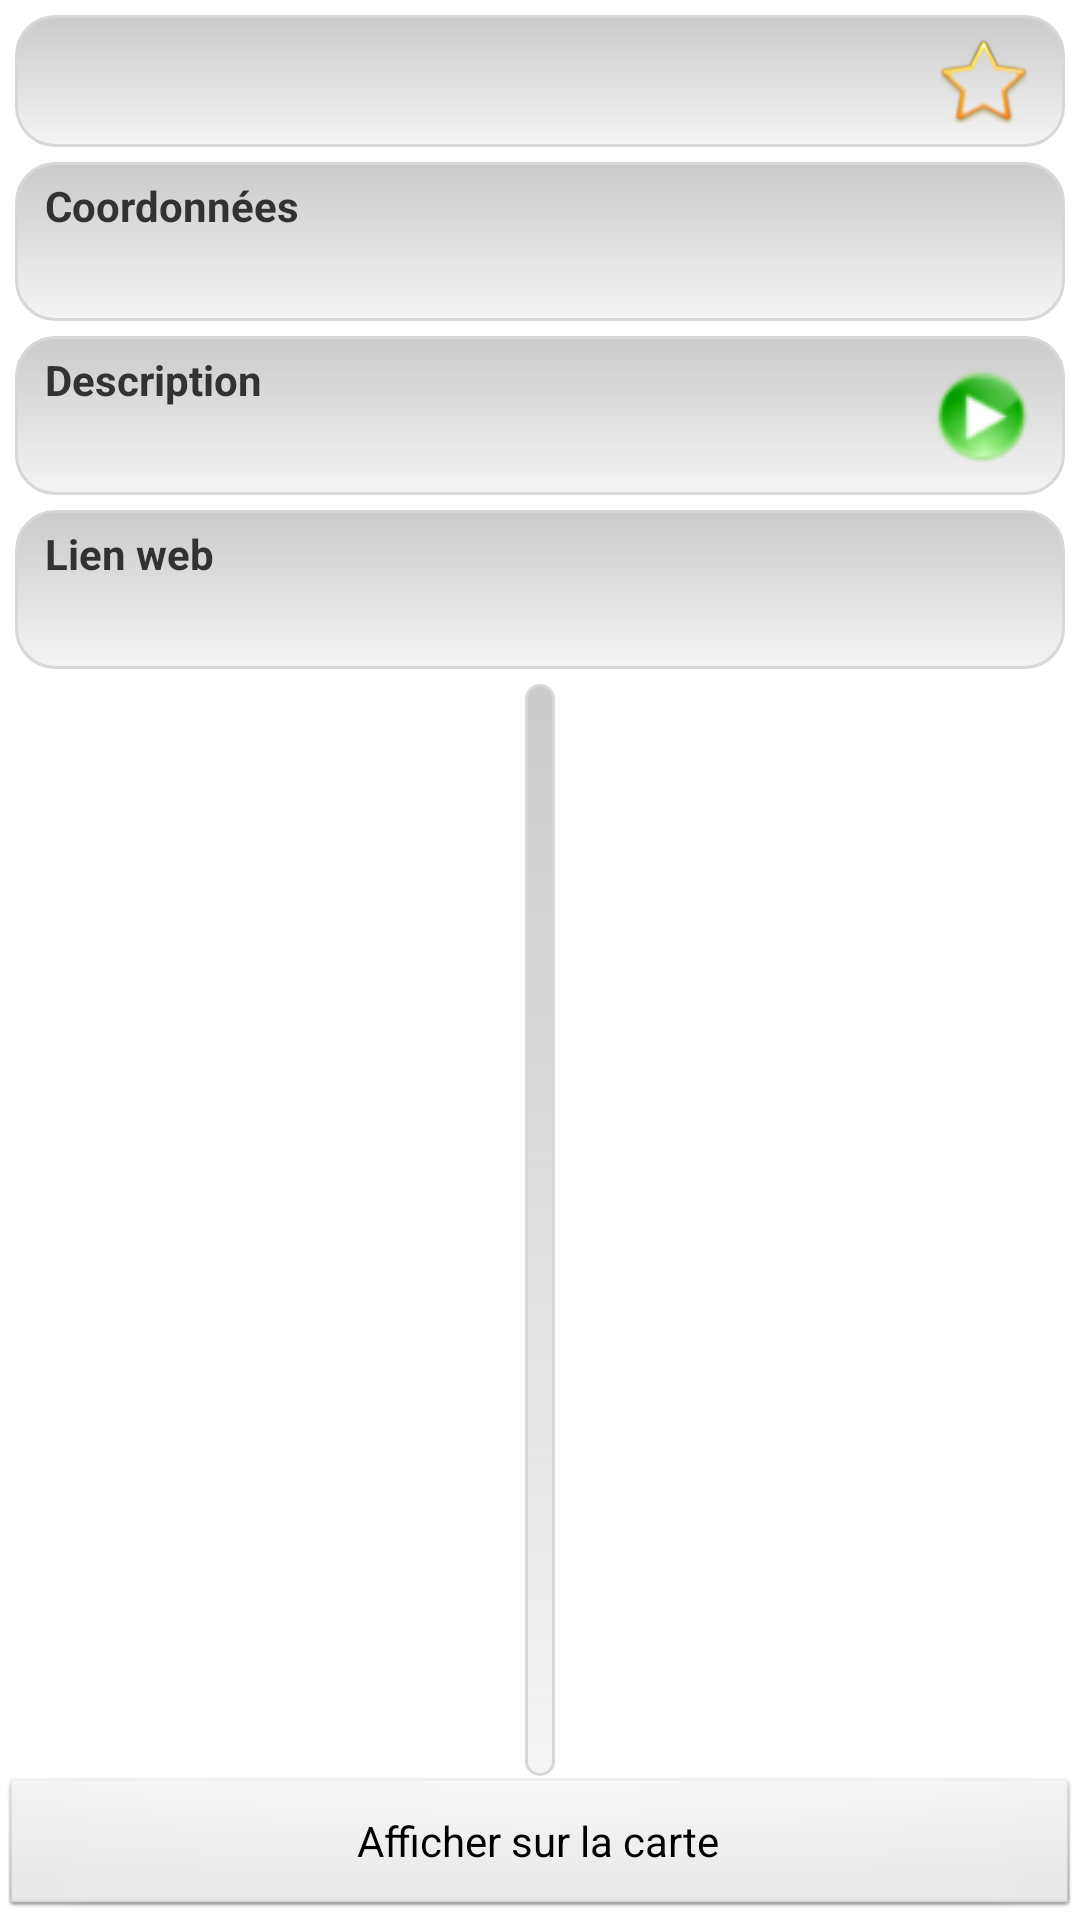

Named icons in this screenshot (1080x1920) and their centers, point (x, y):
favorites empty: point (984, 85)
play: point (982, 416)
